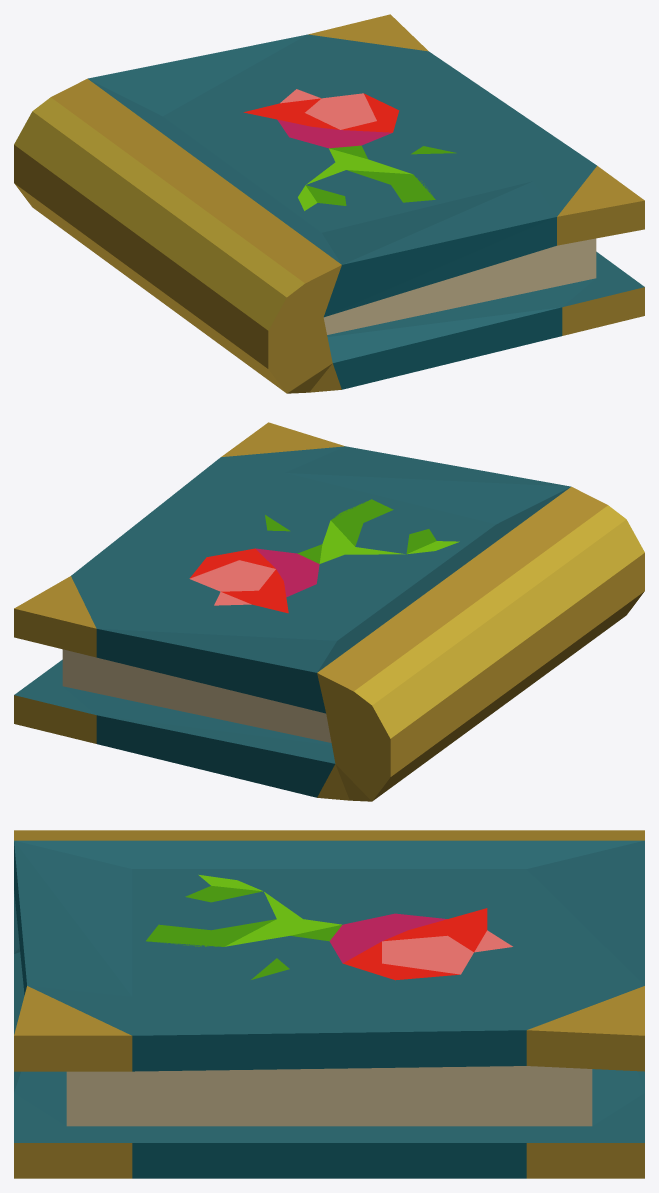
File: kharedst-s-memoirs.gltf
The picture shows the model from 3 angles, top to bottom: view 1: azimuth 30°, elevation 25°; view 2: azimuth 150°, elevation 25°; view 3: azimuth 270°, elevation 25°; orthographic projection. The views are drawn at different scales.
Bounding box in the file's own units: 41 × 13 × 48.
Materials: 1 (1 with a texture image).
